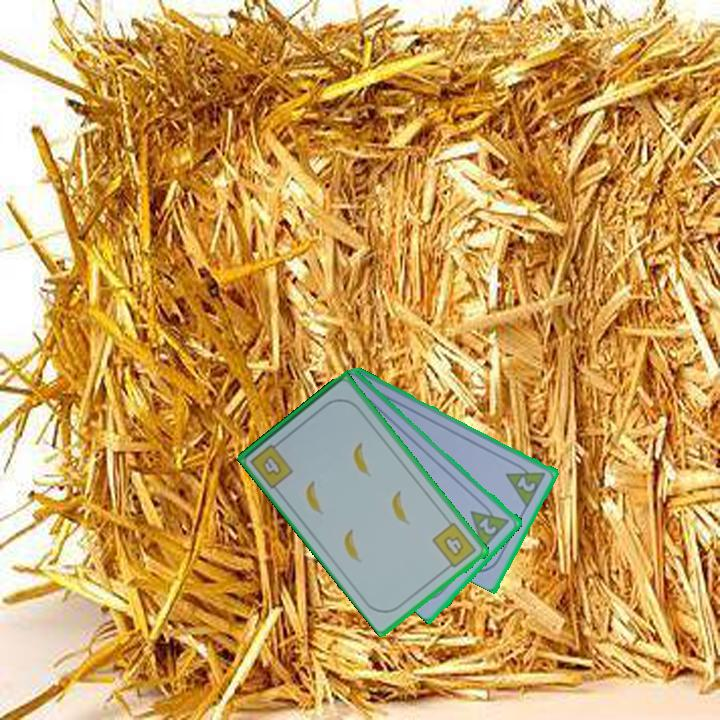2p: (467, 498, 513, 551), (514, 472, 539, 495)
4b: (429, 519, 480, 573), (247, 436, 297, 491)
